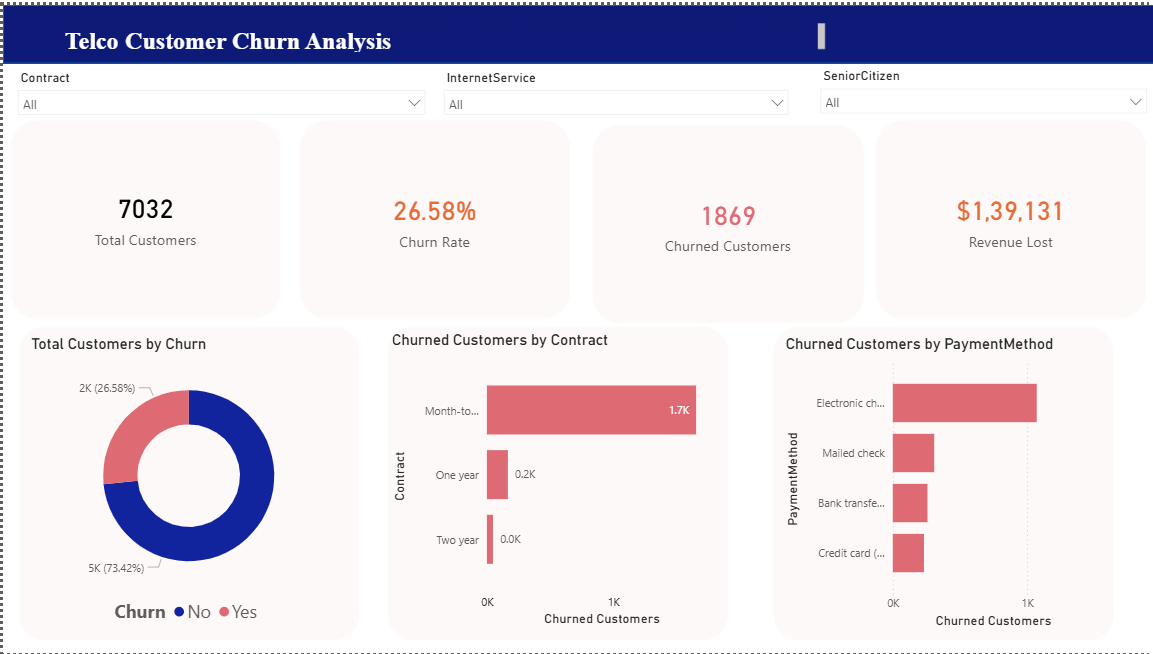

What the dashboard file says about the page in this screenshot:
{"tool":"powerbi","page":{"name":"Overview","canvas":[1280,720],"ordinal":0},"visuals":[{"type":"cardVisual","fields":{"Data":["churn_powerbi.Total Customers"]},"box":[0,71.7,308.3,206.7],"z":0},{"type":"cardVisual","fields":{"Data":["churn_powerbi.Churn Rate"]},"box":[340,71.7,253.3,206.7],"z":1000},{"type":"cardVisual","fields":{"Data":["churn_powerbi.Churned Customers"]},"box":[640,86.7,285,180],"z":2000},{"type":"cardVisual","fields":{"Data":["churn_powerbi.Revenue Lost"]},"box":[960,86.7,260,158.3],"z":3000},{"type":"donutChart","fields":{"Category":["churn_powerbi.Churn"],"Y":["churn_powerbi.Total Customers"]},"box":[6.7,278.3,418.3,430],"z":4000},{"type":"clusteredBarChart","fields":{"Category":["churn_powerbi.Contract"],"Y":["churn_powerbi.Churned Customers"]},"box":[425,266.7,428.3,441.7],"z":5000},{"type":"clusteredBarChart","fields":{"Category":["churn_powerbi.PaymentMethod"],"Y":["churn_powerbi.Total Customers"]},"box":[798.9,281.5,395.4,439.3],"z":6000},{"type":"slicer","fields":{"Values":["churn_powerbi.Contract"]},"box":[8.3,3.3,418.3,71.7],"z":7000},{"type":"slicer","fields":{"Values":["churn_powerbi.InternetService"]},"box":[480,3.3,403.3,83.3],"z":8000},{"type":"slicer","fields":{"Values":["churn_powerbi.SeniorCitizen"]},"box":[898.3,0,381.7,86.7],"z":9000}]}

Visuals, with their boxes in screenshot pixels (x1, y1, x2, y2), scaled from the page's 1280x720 canvas onto the 1153x654 screenshot:
cardVisual - churn_powerbi.Total Customers: x1=0 y1=65 x2=278 y2=253
cardVisual - churn_powerbi.Churn Rate: x1=306 y1=65 x2=534 y2=253
cardVisual - churn_powerbi.Churned Customers: x1=576 y1=79 x2=833 y2=242
cardVisual - churn_powerbi.Revenue Lost: x1=865 y1=79 x2=1099 y2=223
donutChart - churn_powerbi.Churn x churn_powerbi.Total Customers: x1=6 y1=253 x2=383 y2=643
clusteredBarChart - churn_powerbi.Contract x churn_powerbi.Churned Customers: x1=383 y1=242 x2=769 y2=643
clusteredBarChart - churn_powerbi.PaymentMethod x churn_powerbi.Total Customers: x1=720 y1=256 x2=1076 y2=653
slicer - churn_powerbi.Contract: x1=7 y1=3 x2=384 y2=68
slicer - churn_powerbi.InternetService: x1=432 y1=3 x2=796 y2=79
slicer - churn_powerbi.SeniorCitizen: x1=809 y1=0 x2=1152 y2=79
